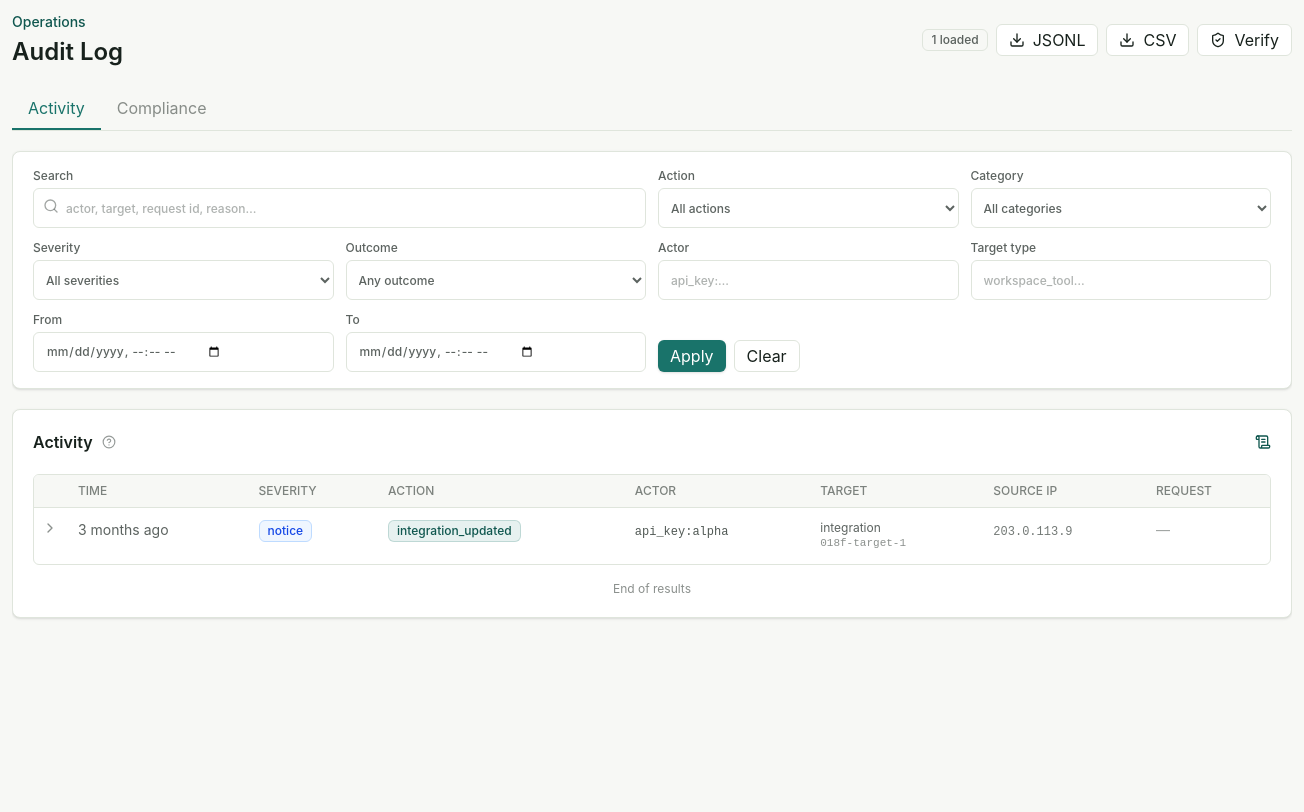
Test: AuditView › shows the verification result after Verify
Expected: the text "203.0.113.9" is shown, top-left (993, 525), bottom-right (1072, 539)
Click the button "Verify" at (1245, 40), box top-left (1198, 24), bottom-right (1292, 56)
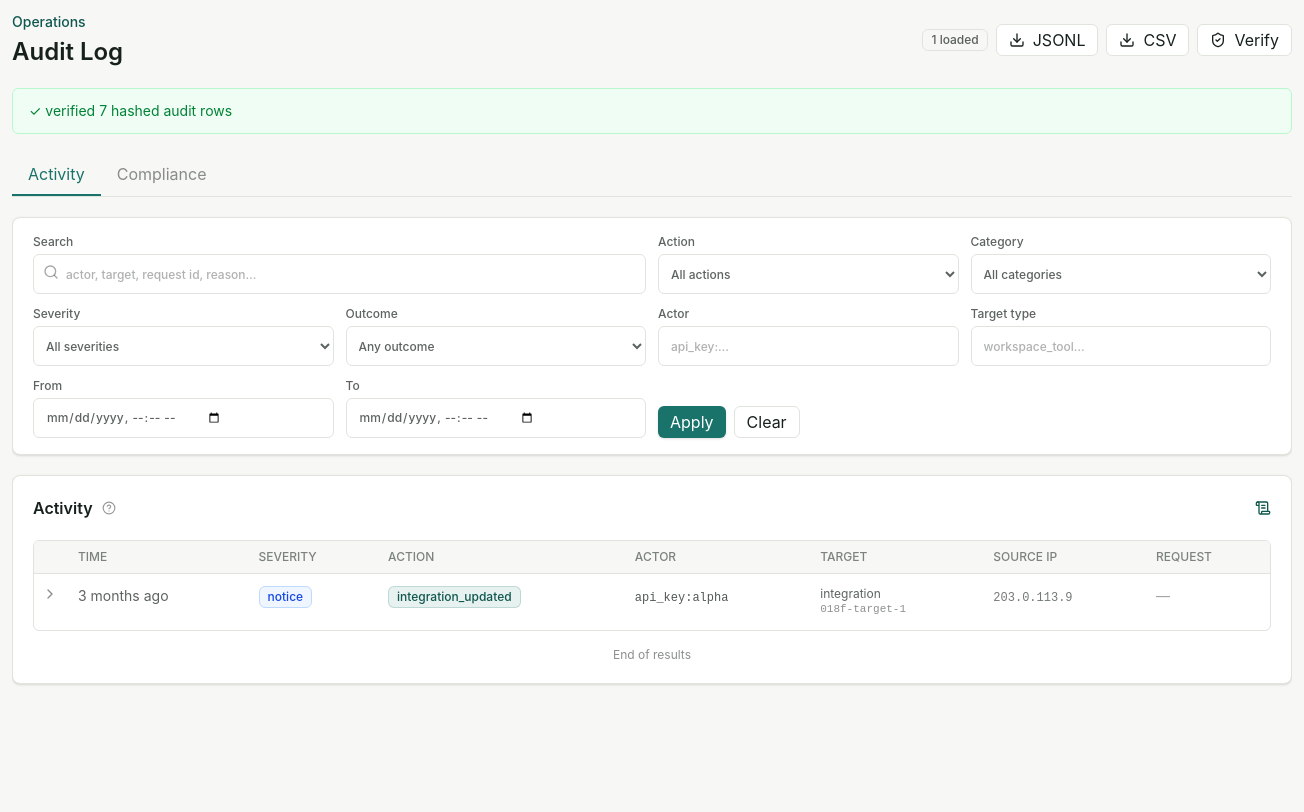
Now the text "✓ verified 7 hashed audit rows" is shown, box top-left (12, 88), bottom-right (1292, 134)
